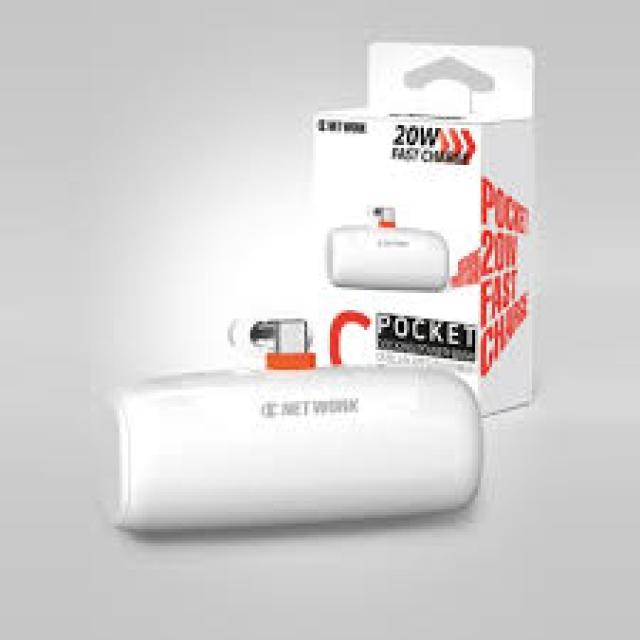power_bank: (115, 313, 487, 531)
